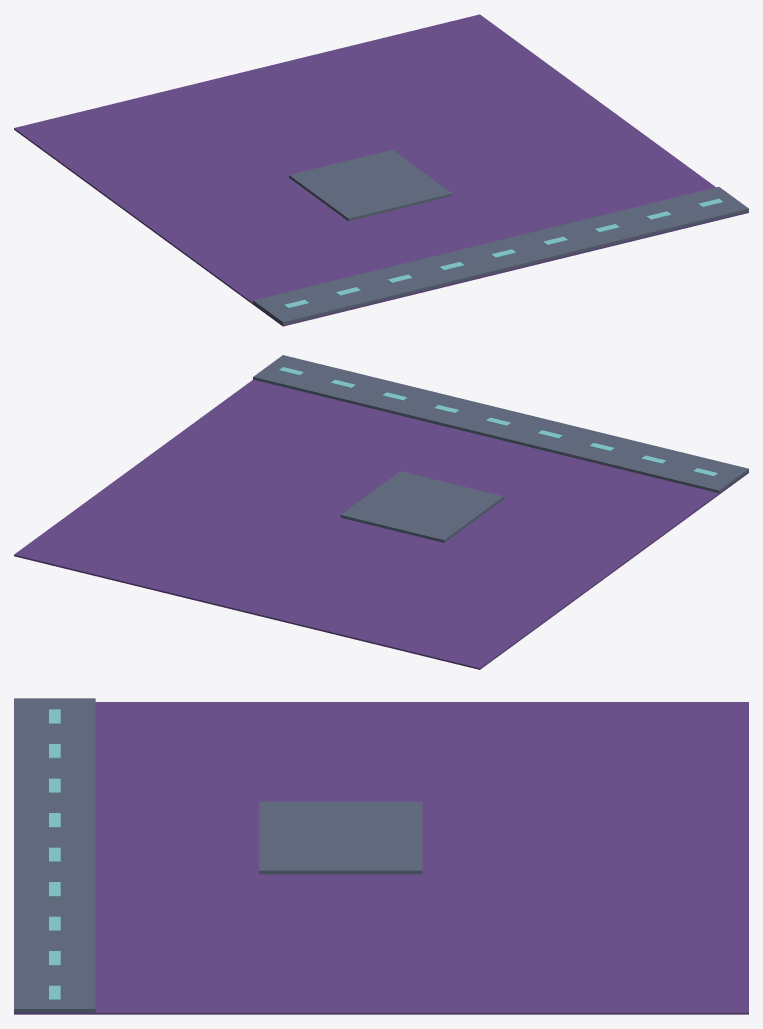
The model's file is stage_01.glb.
3 renders of one model, top to bottom at view 1: azimuth 30°, elevation 25°; view 2: azimuth 150°, elevation 25°; view 3: azimuth 270°, elevation 25°, orthographic. The views are drawn at different scales.
Visible parts, largest first — view 1: geometry_0; view 2: geometry_0; view 3: geometry_0.
Boxes of the visible parts, box(x1,y1,x2,y2) form: geometry_0: box(14, 14, 748, 326); geometry_0: box(14, 355, 748, 669); geometry_0: box(14, 698, 748, 1014).
Size of the model in its own units: 9 by 0.091 by 9.
